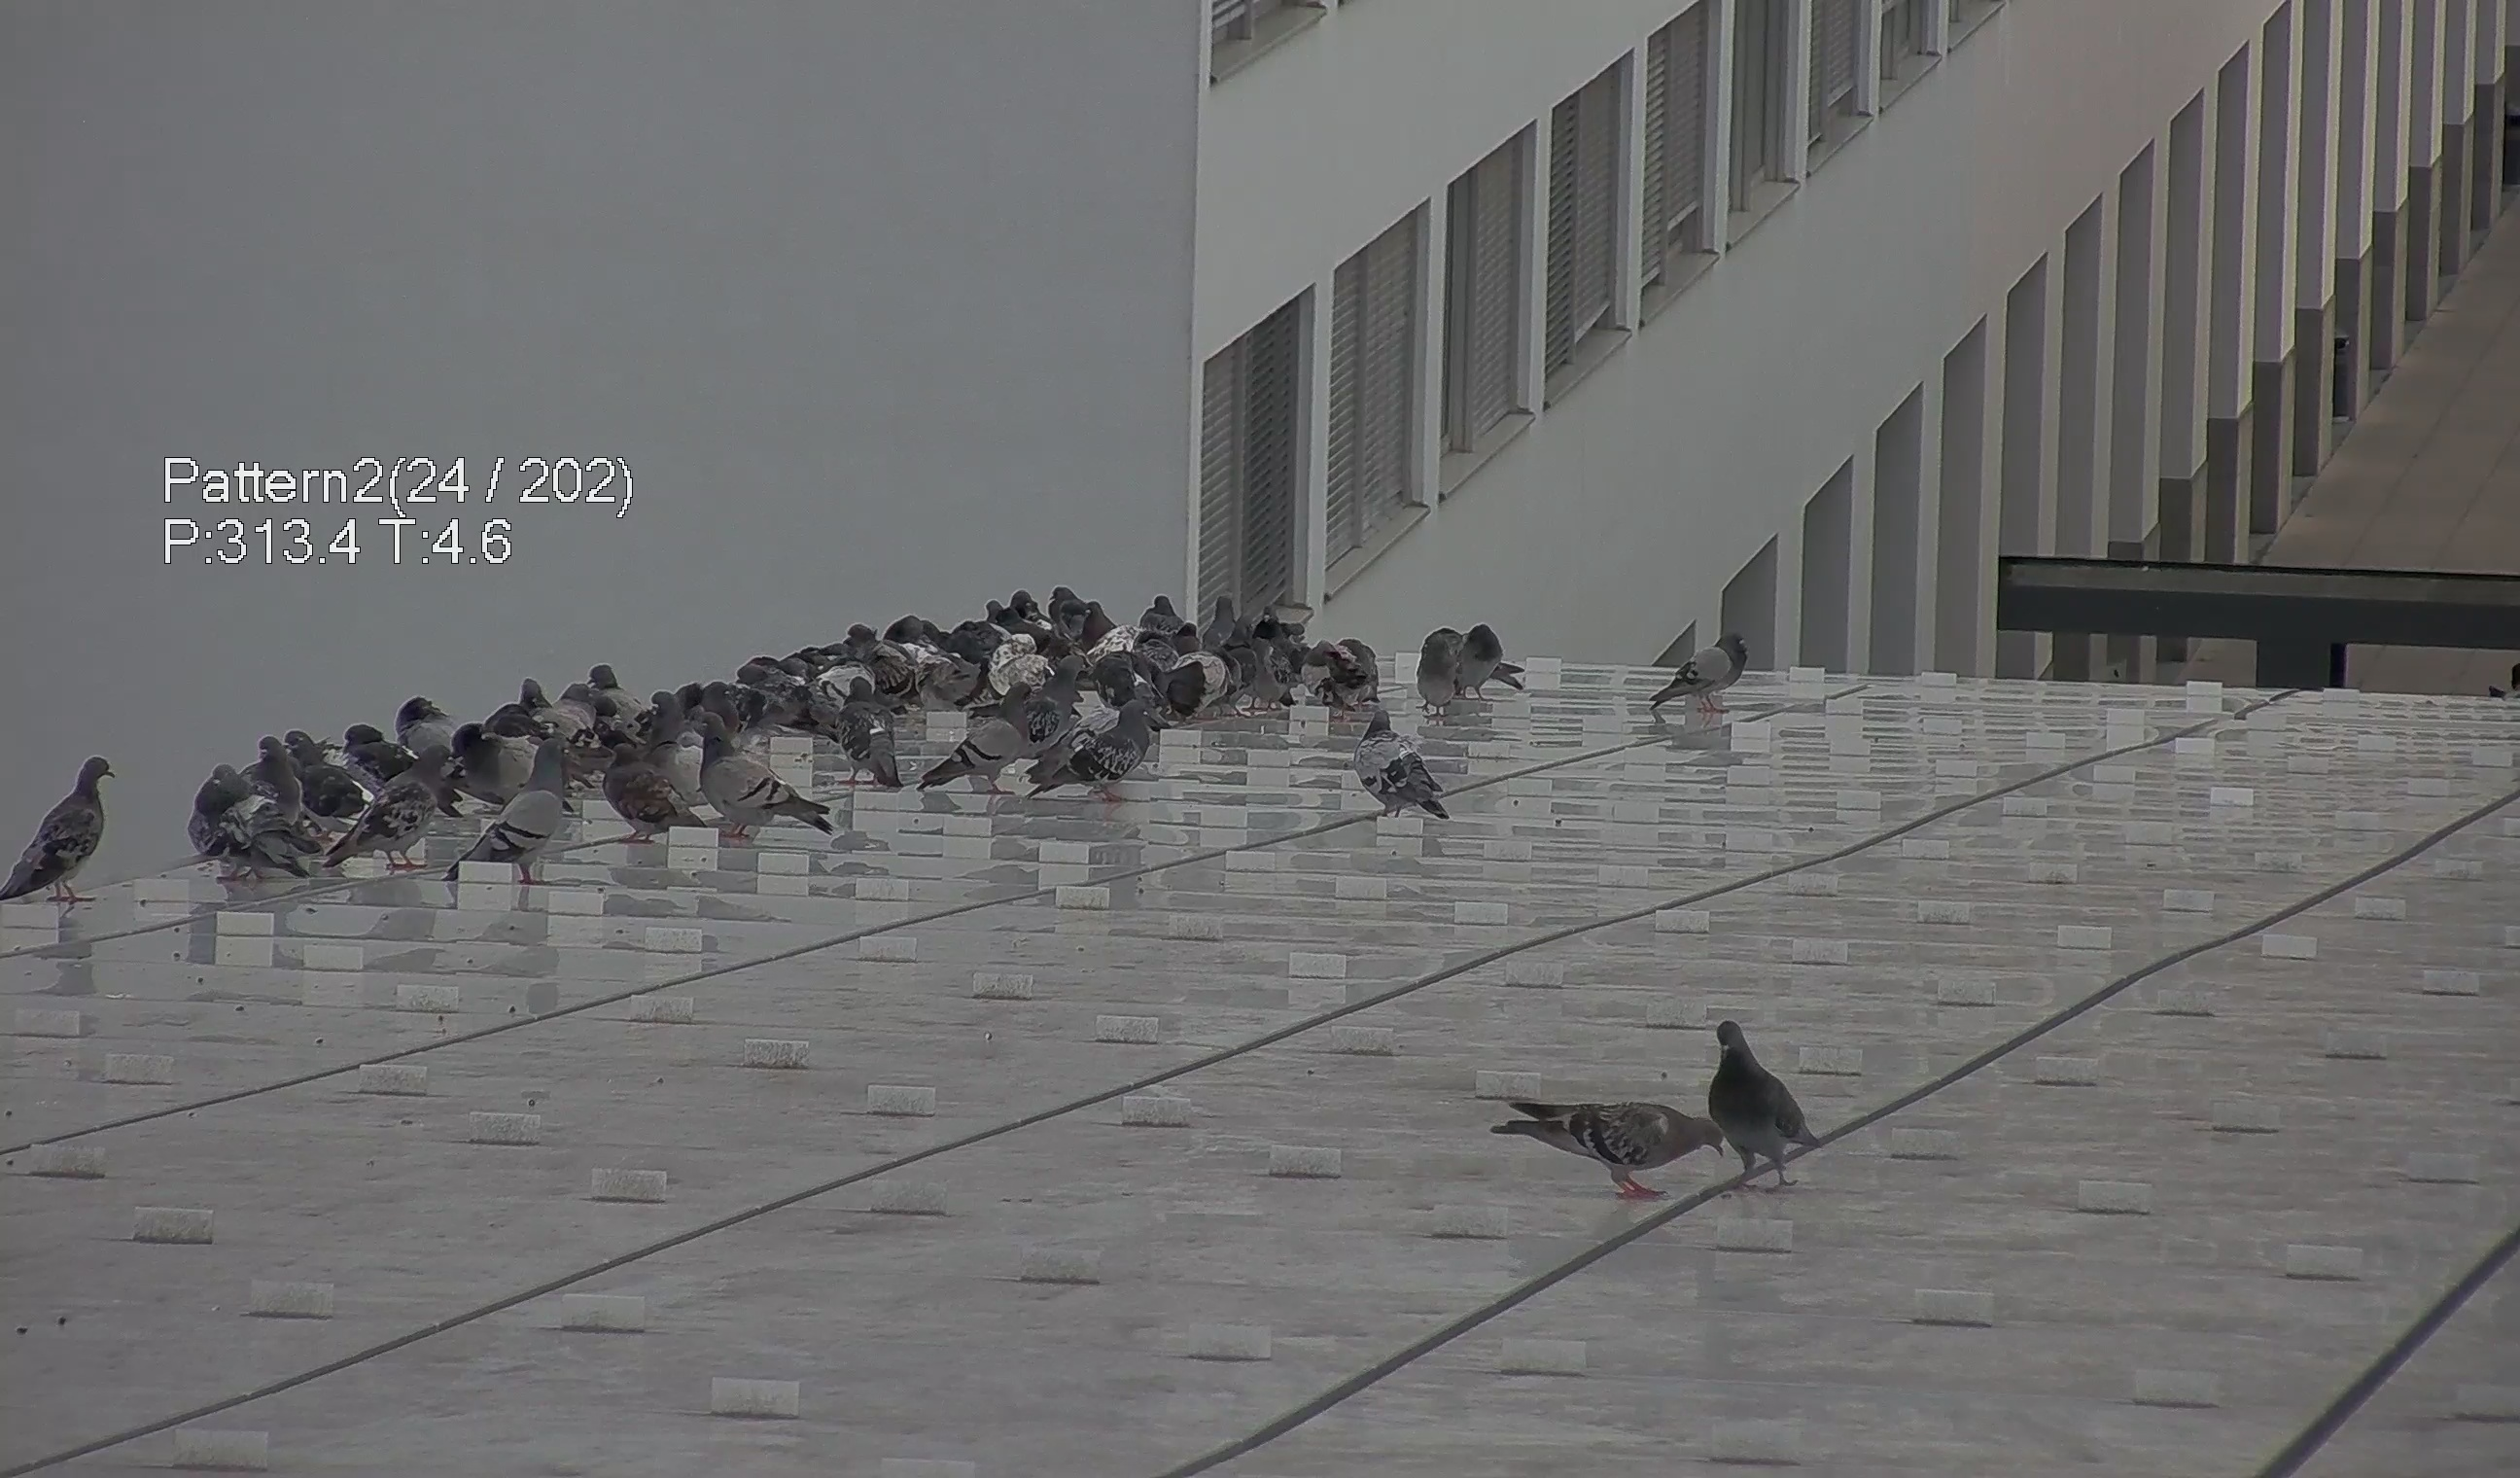Pigeon: (1481, 1084, 1748, 1204), (1699, 1010, 1839, 1182), (2, 748, 123, 920), (176, 760, 325, 887), (445, 737, 573, 882), (327, 744, 459, 874), (681, 727, 825, 845), (1038, 700, 1161, 816), (1351, 709, 1460, 838), (1644, 611, 1766, 720), (929, 677, 1034, 795), (601, 734, 707, 838), (1417, 618, 1532, 711), (835, 667, 906, 783), (580, 651, 631, 699)
